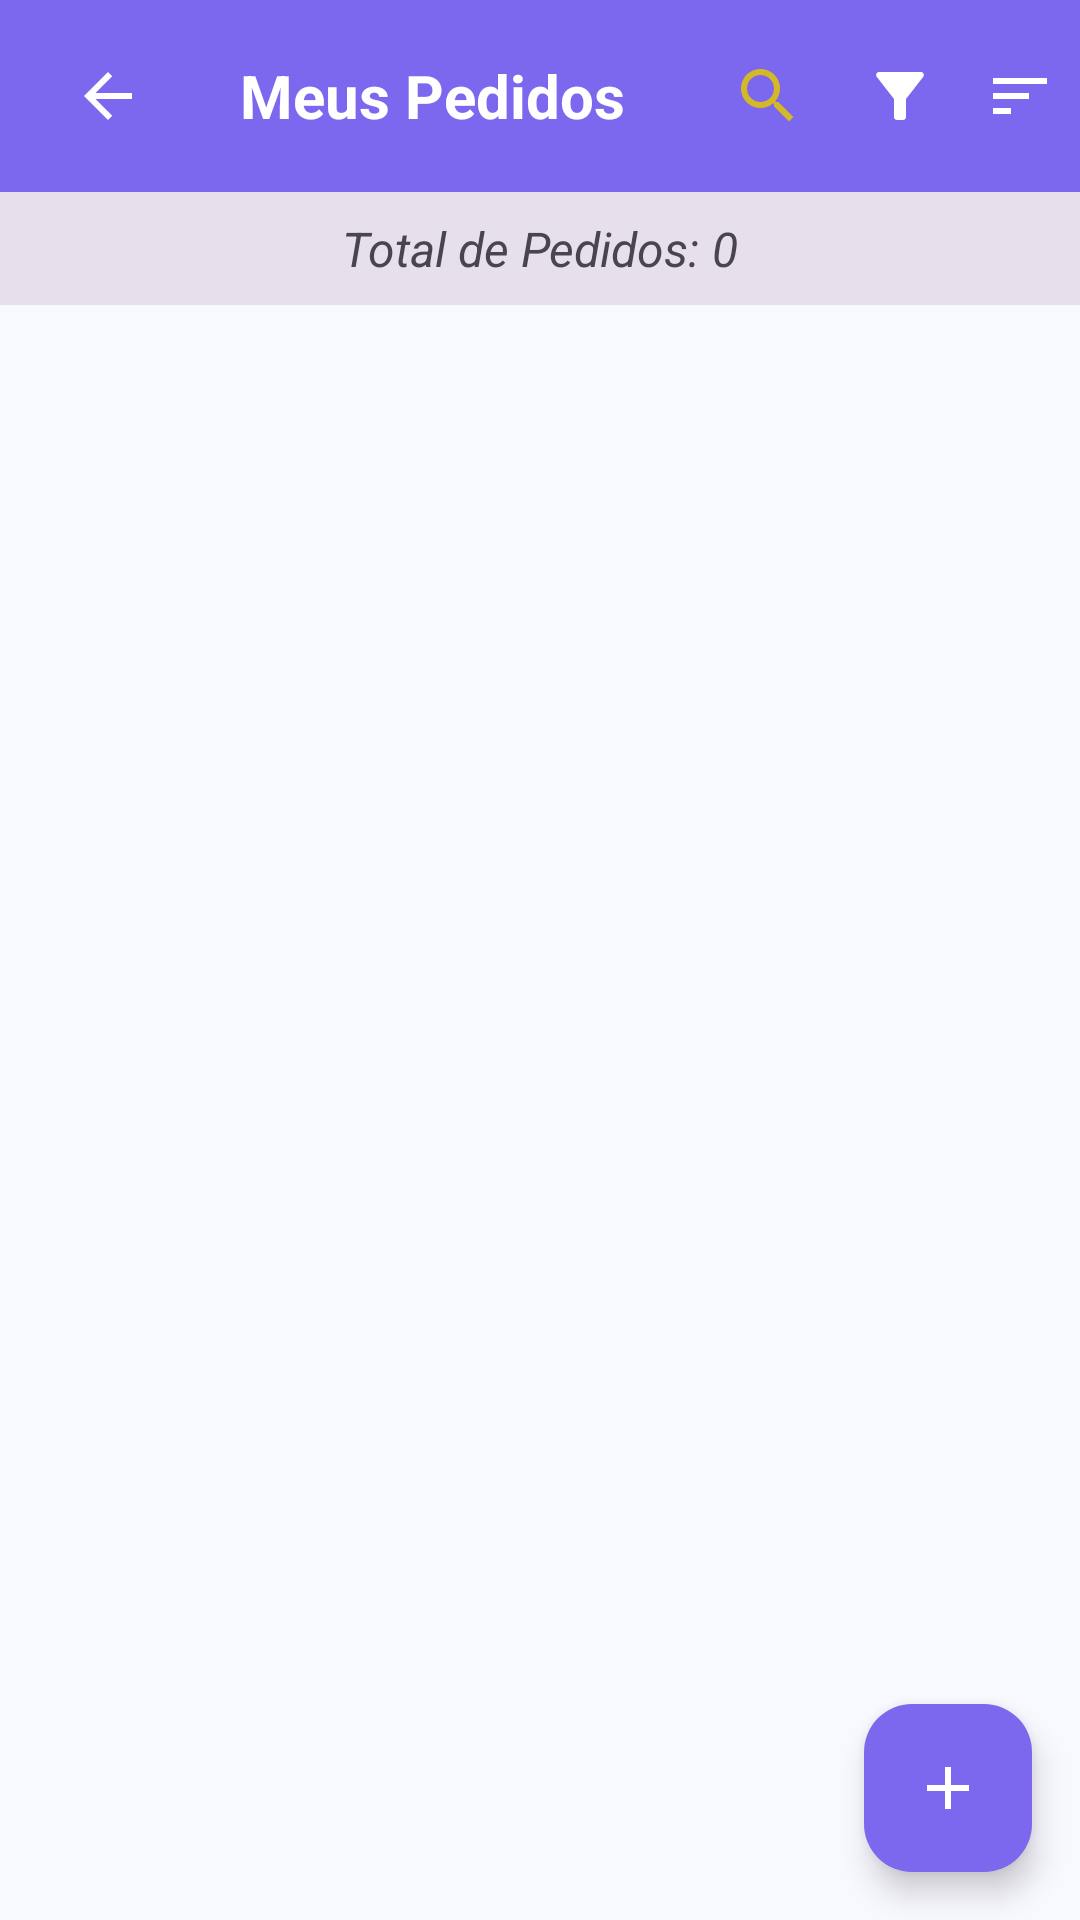

Where icons sit on this 1080x1920 app screen, as (x1, y1, x2, y2):
Adicionar Pedido: (864, 1704, 1032, 1872)
Filtrar Pedidos: (876, 72, 924, 120)
Ordenar Pedidos: (993, 78, 1047, 114)
Voltar: (84, 72, 132, 120)
